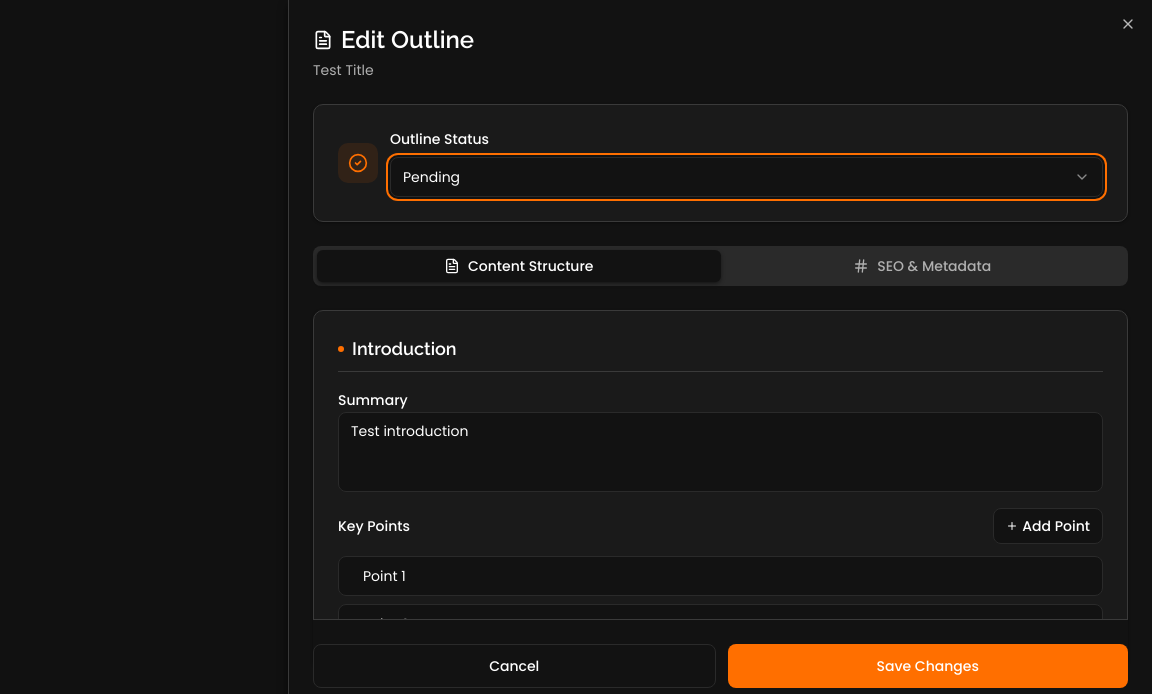
Test: OutlineEditor › switches to SEO tab when clicked
Click the tab "SEO & Metadata": {"x": 922, "y": 266} [720, 250, 1124, 282]
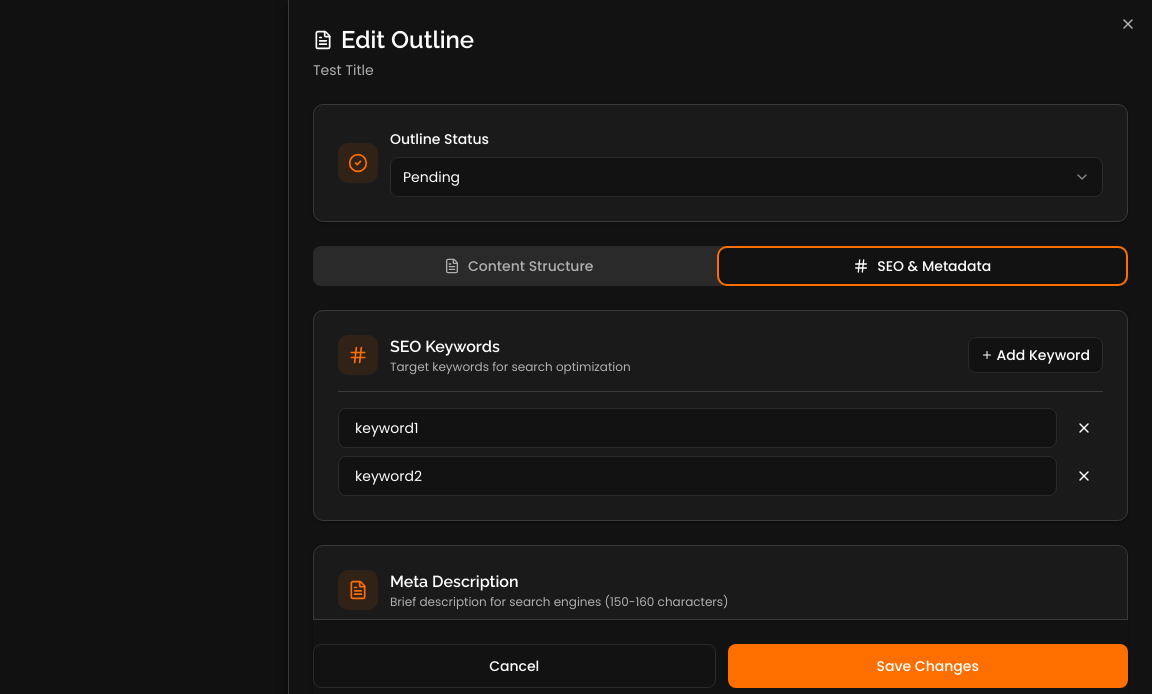
expect the heading "SEO Keywords" is shown: met, box [390, 337, 500, 356]
